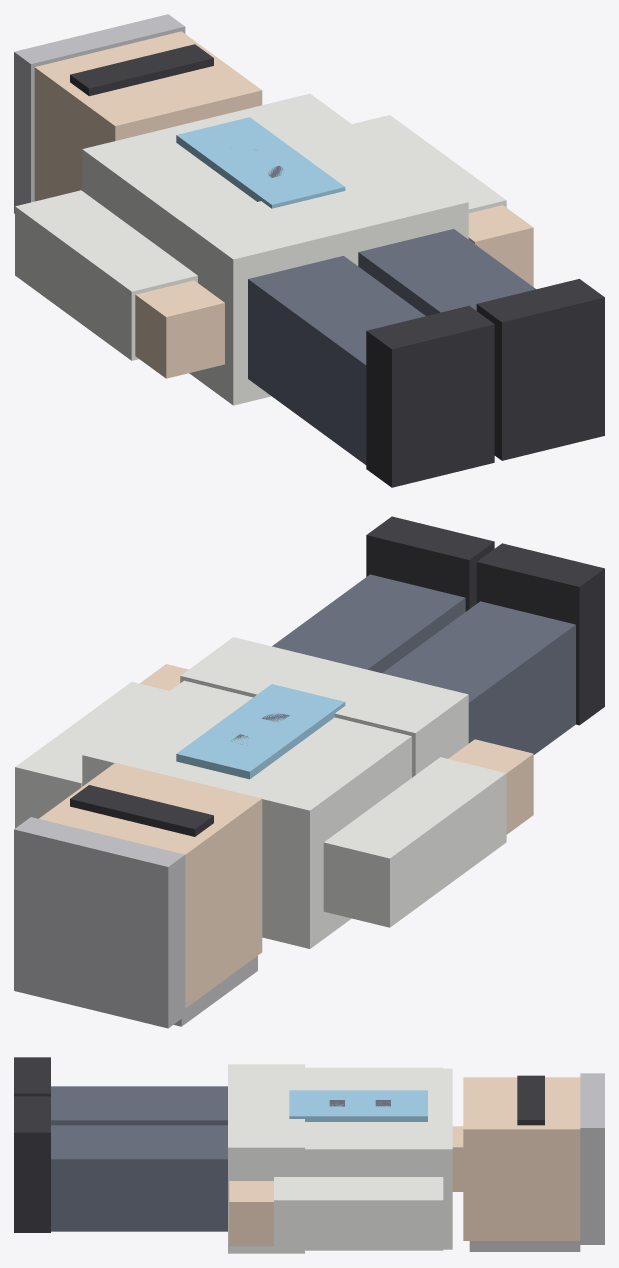
Rendered from scientist.glb.
The picture shows the model from 3 angles, top to bottom: view 1: azimuth 30°, elevation 25°; view 2: azimuth 150°, elevation 25°; view 3: azimuth 270°, elevation 25°; orthographic projection. The views are drawn at different scales.
Parts seen in each view (by area): view 1: CoatSkirt, ShoeL, LegL, Coat, ShoeR, Head, ArmL, LegR, Shirt, HandL, HairTop, ArmR (+2 smaller); view 2: HairTop, Coat, ArmL, Head, LegL, CoatSkirt, LegR, ShoeL, Shirt, ShoeR, ArmR, Glasses (+3 smaller); view 3: LegR, Head, Coat, ArmR, CoatSkirt, LegL, ShoeR, HairTop, Shirt, HandR, ShoeL, Glasses (+2 smaller).
Boxes of the visible parts, left/top/right/bottom form: CoatSkirt: left=180, top=163, right=468, bottom=405; ShoeL: left=366, top=305, right=494, bottom=487; LegL: left=248, top=256, right=425, bottom=464; Coat: left=82, top=93, right=407, bottom=262; ShoeR: left=476, top=279, right=604, bottom=460; Head: left=34, top=31, right=262, bottom=201; ArmL: left=15, top=190, right=197, bottom=360; LegR: left=358, top=229, right=535, bottom=315; Shirt: left=176, top=117, right=345, bottom=208; HandL: left=135, top=280, right=224, bottom=378; HairTop: left=14, top=14, right=185, bottom=213; ArmR: left=352, top=115, right=506, bottom=213; HairTop: left=14, top=817, right=185, bottom=1028; Coat: left=82, top=680, right=411, bottom=948; ArmL: left=323, top=757, right=506, bottom=927; Head: left=39, top=762, right=262, bottom=1008; LegL: left=382, top=601, right=575, bottom=754; CoatSkirt: left=180, top=637, right=468, bottom=777; LegR: left=272, top=574, right=465, bottom=672; ShoeL: left=476, top=543, right=604, bottom=725; Shirt: left=176, top=684, right=345, bottom=779; ShoeR: left=366, top=516, right=494, bottom=611; ArmR: left=15, top=682, right=169, bottom=828; Glasses: left=70, top=785, right=213, bottom=836; LegR: left=51, top=1125, right=227, bottom=1231; Head: left=463, top=1077, right=580, bottom=1240; Coat: left=305, top=1068, right=452, bottom=1249; ArmR: left=274, top=1177, right=443, bottom=1250; CoatSkirt: left=228, top=1064, right=304, bottom=1253; LegL: left=51, top=1086, right=227, bottom=1125; ShoeR: left=14, top=1096, right=50, bottom=1232; HairTop: left=580, top=1073, right=604, bottom=1244; Shirt: left=289, top=1090, right=427, bottom=1121; HandR: left=229, top=1181, right=273, bottom=1246; ShoeL: left=14, top=1057, right=50, bottom=1096; Glasses: left=517, top=1075, right=544, bottom=1125.
Size of the model in its own units: 1.02 by 0.47 by 1.92.
